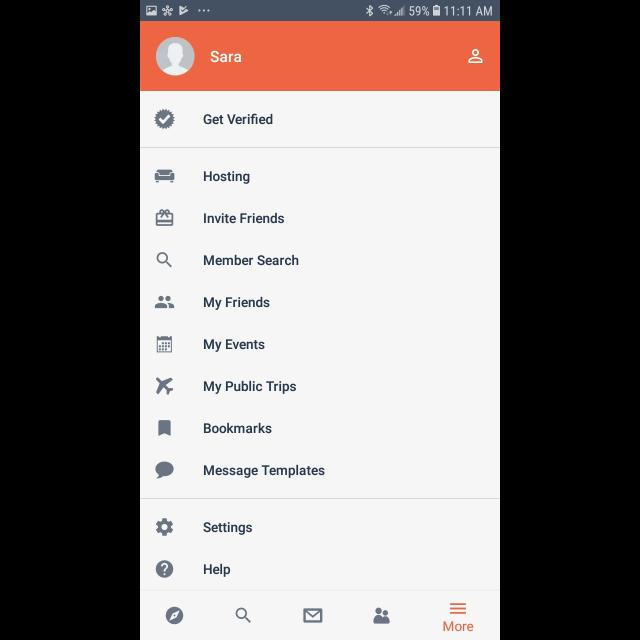icon: (157, 38, 196, 76), (154, 108, 176, 130), (156, 518, 174, 536), (156, 560, 174, 578), (166, 607, 184, 625), (303, 608, 323, 624), (156, 210, 174, 227), (156, 462, 174, 478), (374, 608, 391, 624), (156, 252, 172, 268), (156, 336, 172, 352), (236, 607, 252, 623), (155, 296, 175, 308), (469, 48, 483, 64), (158, 420, 172, 436), (449, 602, 466, 614)
image: (156, 378, 174, 394), (155, 170, 175, 182)
text: (203, 465, 324, 479), (204, 381, 296, 395), (204, 254, 300, 266), (204, 212, 284, 224), (204, 297, 270, 311), (204, 114, 272, 126), (204, 422, 272, 433), (203, 340, 264, 352), (204, 522, 252, 536), (204, 172, 250, 184), (210, 50, 242, 64), (204, 563, 232, 577), (443, 620, 473, 632)
uppertaskbar: (140, 1, 500, 22)
